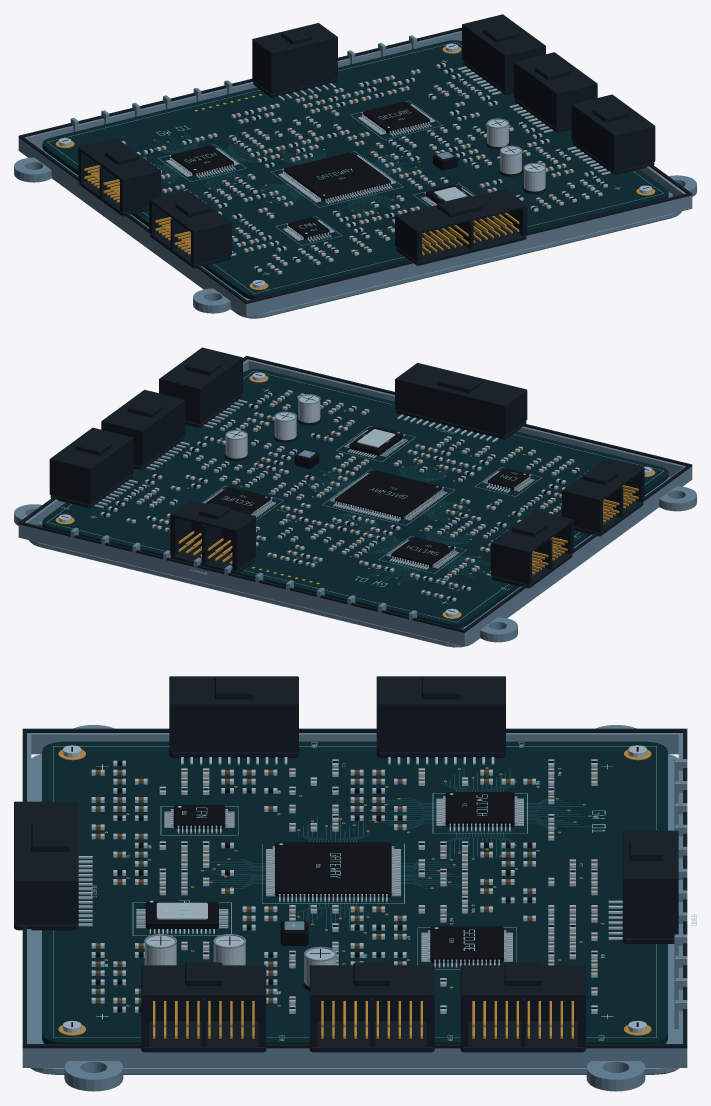
3 views of the same model, one above another, from view 1: azimuth 30°, elevation 25°; view 2: azimuth 150°, elevation 25°; view 3: azimuth 270°, elevation 25° (orthographic). The views are drawn at different scales.
Parts seen in each view (by area): view 1: pcb_substrate_0001, chassis_rim_0001, chip_substrate_0001, connector_back_0007, chassis_backplate_0001, chassis_rim_0003, chassis_rim_0002, connector_top_0006, connector_back_0005, connector_back_0004, connector_side_0005, connector_base_0006 (+29 smaller); view 2: pcb_substrate_0001, chassis_rim_0002, connector_back_0006, chip_substrate_0001, chassis_backplate_0001, chassis_rim_0003, chassis_rim_0001, connector_top_0006, connector_back_0003, connector_back_0004, connector_back_0005, chassis_seal_0002 (+35 smaller); view 3: pcb_substrate_0001, chassis_rim_0004, connector_back_0001, connector_back_0002, chassis_backplate_0001, chip_substrate_0001, chassis_rim_0003, connector_top_0006, connector_side_0013, connector_base_0003, connector_base_0004, connector_base_0005 (+39 smaller).
Part boxes in pixels (x1=…): pcb_substrate_0001: x1=42, y1=40, x2=668, y2=299; chassis_rim_0001: x1=243, y1=195, x2=692, y2=317; chip_substrate_0001: x1=283, y1=152, x2=390, y2=201; connector_back_0007: x1=268, y1=35, x2=337, y2=93; chassis_backplate_0001: x1=41, y1=148, x2=681, y2=318; chassis_rim_0003: x1=21, y1=138, x2=247, y2=314; chassis_rim_0002: x1=18, y1=30, x2=461, y2=152; connector_top_0006: x1=395, y1=189, x2=526, y2=233; connector_back_0005: x1=462, y1=23, x2=509, y2=91; connector_back_0004: x1=514, y1=61, x2=561, y2=128; connector_side_0005: x1=611, y1=126, x2=655, y2=171; connector_base_0006: x1=396, y1=222, x2=526, y2=265; pcb_substrate_0001: x1=42, y1=369, x2=668, y2=628; chassis_rim_0002: x1=18, y1=524, x2=467, y2=646; connector_back_0006: x1=395, y1=377, x2=506, y2=435; chip_substrate_0001: x1=335, y1=470, x2=442, y2=519; chassis_backplate_0001: x1=29, y1=477, x2=669, y2=647; chassis_rim_0003: x1=463, y1=467, x2=689, y2=643; chassis_rim_0001: x1=246, y1=359, x2=692, y2=481; connector_top_0006: x1=395, y1=363, x2=527, y2=407; connector_back_0003: x1=195, y1=356, x2=242, y2=424; connector_back_0004: x1=137, y1=399, x2=185, y2=466; connector_back_0005: x1=86, y1=437, x2=133, y2=504; chassis_seal_0002: x1=18, y1=521, x2=465, y2=632; pcb_substrate_0001: x1=42, y1=741, x2=667, y2=1043; chassis_rim_0004: x1=31, y1=1048, x2=678, y2=1067; connector_back_0001: x1=169, y1=700, x2=298, y2=752; connector_back_0002: x1=376, y1=700, x2=505, y2=752; chassis_backplate_0001: x1=30, y1=754, x2=679, y2=1074; chip_substrate_0001: x1=275, y1=842, x2=391, y2=897; chassis_rim_0003: x1=31, y1=733, x2=678, y2=754; connector_top_0006: x1=14, y1=802, x2=78, y2=883; connector_side_0013: x1=622, y1=875, x2=678, y2=938; connector_base_0003: x1=141, y1=1021, x2=266, y2=1052; connector_base_0004: x1=309, y1=1021, x2=434, y2=1052; connector_base_0005: x1=460, y1=1021, x2=585, y2=1052.
Size of the model in its own units: 195 by 25.6 by 158.
